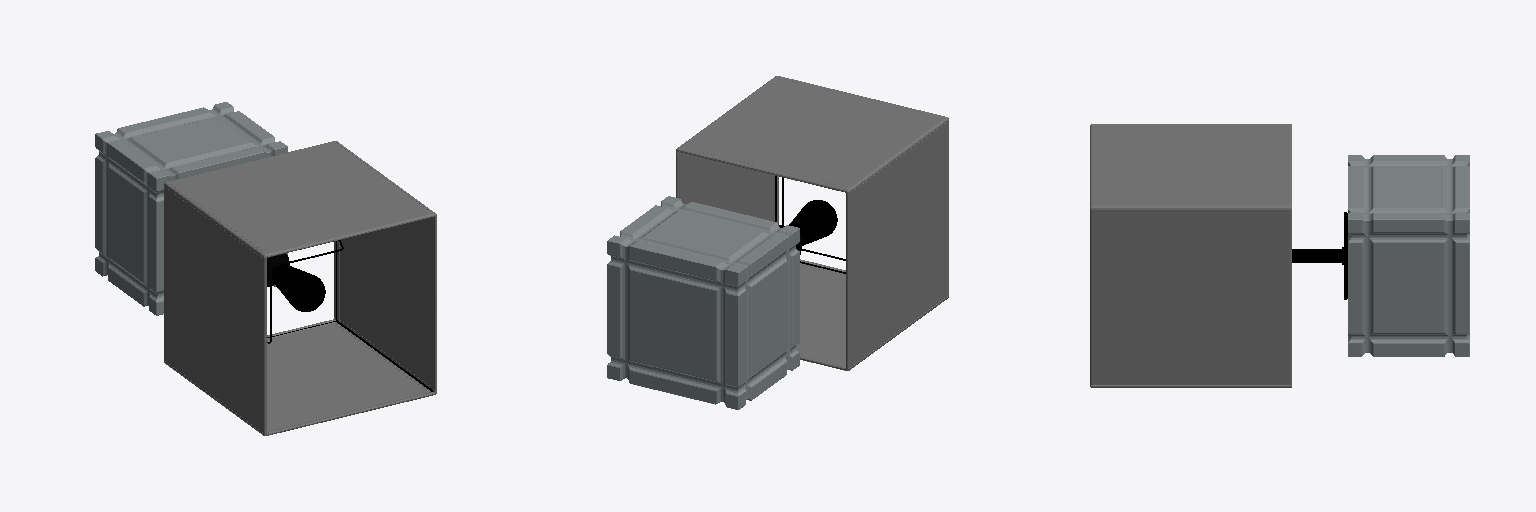
Rendered from Eichholtz_Academia_mat(2).obj.
The picture shows the model from 3 angles: view 1: azimuth 30°, elevation 25°; view 2: azimuth 150°, elevation 25°; view 3: azimuth 270°, elevation 25°; orthographic projection.
Visible parts, largest first — view 1: Eichholtz_Academia_mat2; view 2: Eichholtz_Academia_mat2; view 3: Eichholtz_Academia_mat2.
Part boxes in pixels (x1,y1,x2,y2): Eichholtz_Academia_mat2: (95, 102, 436, 435); Eichholtz_Academia_mat2: (607, 76, 948, 409); Eichholtz_Academia_mat2: (1090, 124, 1469, 387).
Size of the model in its own units: 30.28 by 30.3 by 57.43.